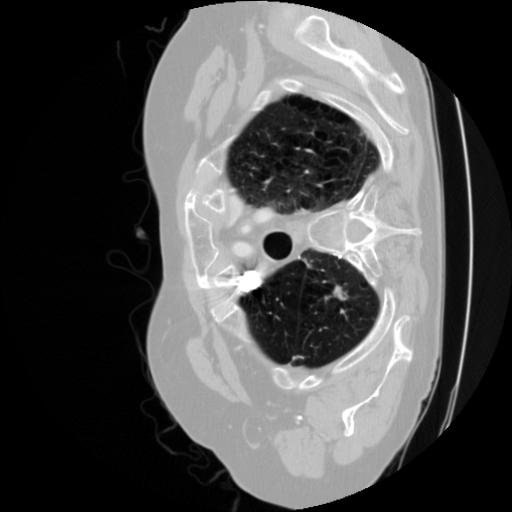nodule: (332, 286, 348, 302)
